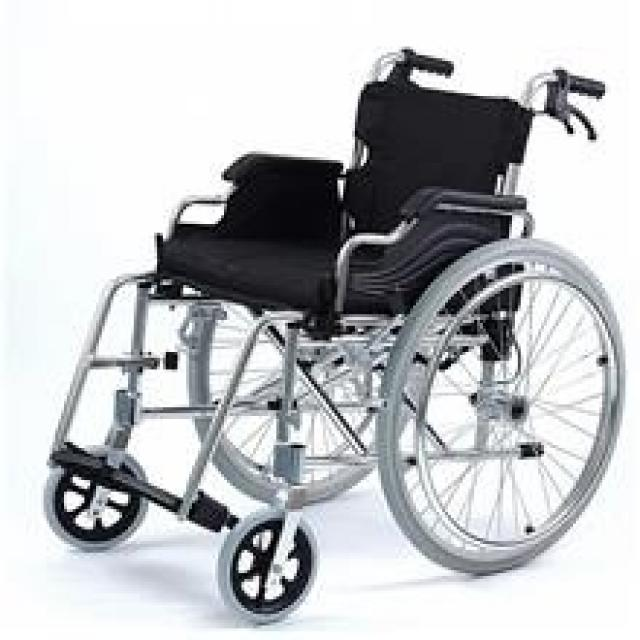wheelchair: (29, 44, 640, 634)
